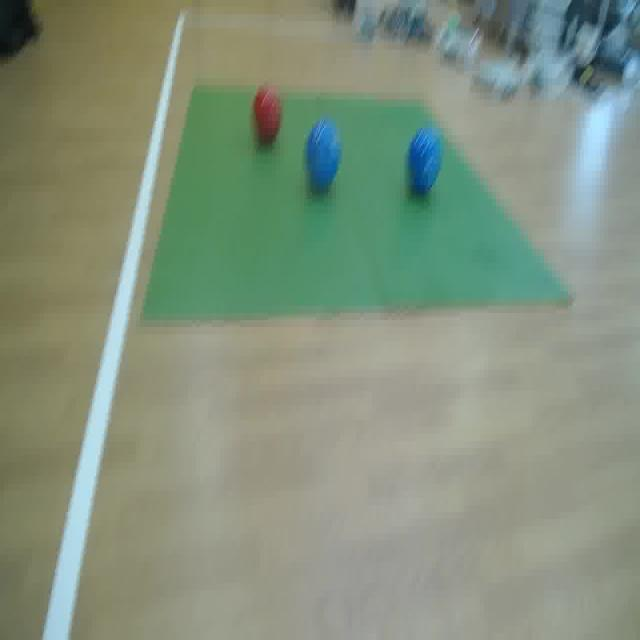blue_ball: (304, 114, 341, 194), (406, 129, 444, 194)
red_ball: (250, 82, 285, 150)
